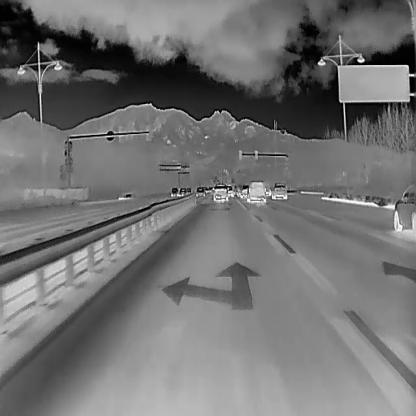car: (392, 181, 415, 232), (247, 179, 266, 203), (271, 182, 287, 201), (211, 184, 228, 201), (225, 185, 234, 198), (240, 185, 249, 198), (195, 187, 205, 197), (170, 185, 178, 196), (179, 188, 187, 196), (186, 186, 191, 194)
